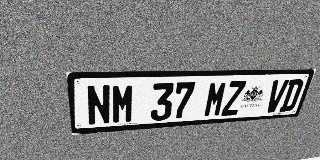3: (150, 83, 174, 121)
7: (171, 82, 195, 120)
D: (279, 79, 305, 112)
M: (111, 84, 135, 124), (203, 81, 228, 117)
N: (85, 84, 111, 126)
V: (263, 80, 289, 113)
Z: (221, 81, 246, 116)
